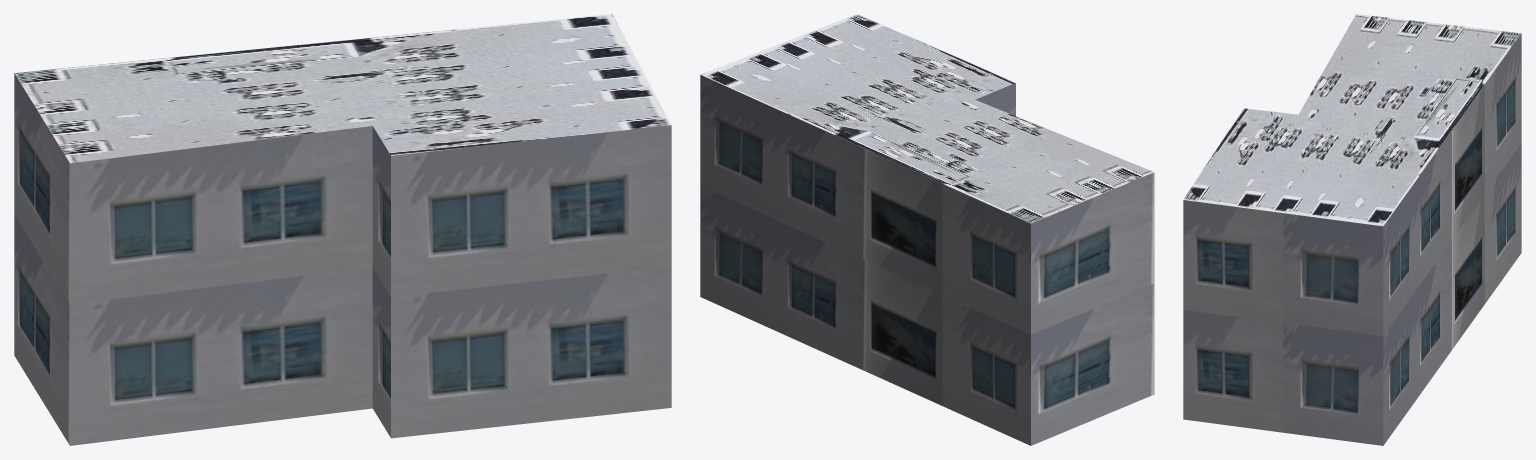
The model's file is ResTex__4658.fbx.
3 renders of one model, left to right at view 1: azimuth 30°, elevation 25°; view 2: azimuth 150°, elevation 25°; view 3: azimuth 270°, elevation 25°, orthographic. The views are drawn at different scales.
Visible parts, largest first — view 1: CityEngineMaterial_10_m, CityEngineMaterial_8_m; view 2: CityEngineMaterial_10_m, CityEngineMaterial_8_m; view 3: CityEngineMaterial_10_m, CityEngineMaterial_8_m.
Boxes of the visible parts, x1,y1,x2,y2 form: CityEngineMaterial_10_m: (14, 73, 671, 445); CityEngineMaterial_8_m: (14, 14, 671, 163); CityEngineMaterial_10_m: (700, 75, 1154, 445); CityEngineMaterial_8_m: (701, 14, 1154, 223); CityEngineMaterial_10_m: (1183, 34, 1521, 445); CityEngineMaterial_8_m: (1183, 14, 1521, 226).
Size of the model in its own units: 12.44 by 6 by 8.38.
Materials: 2 (2 with a texture image).
